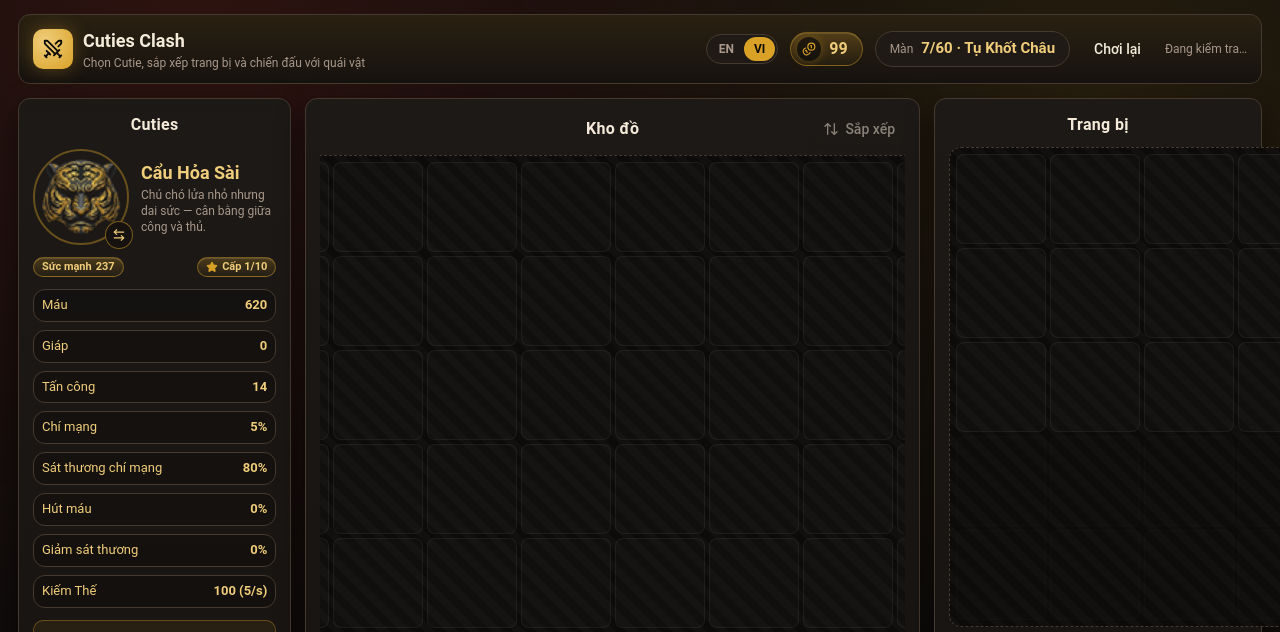
Test case: restarting asks for confirmation › cancels with Esc, and the Esc key does not survive the dialog closing
Click the button "Chơi lại": (1118, 49) [1082, 33, 1153, 65]
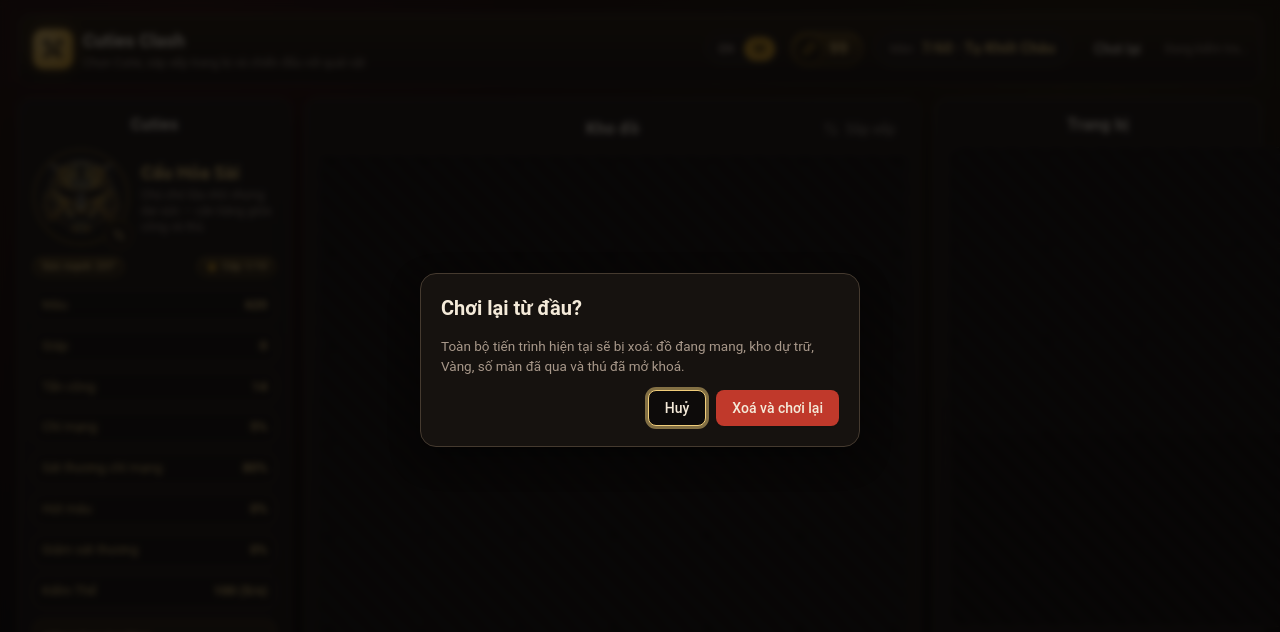
Press Escape
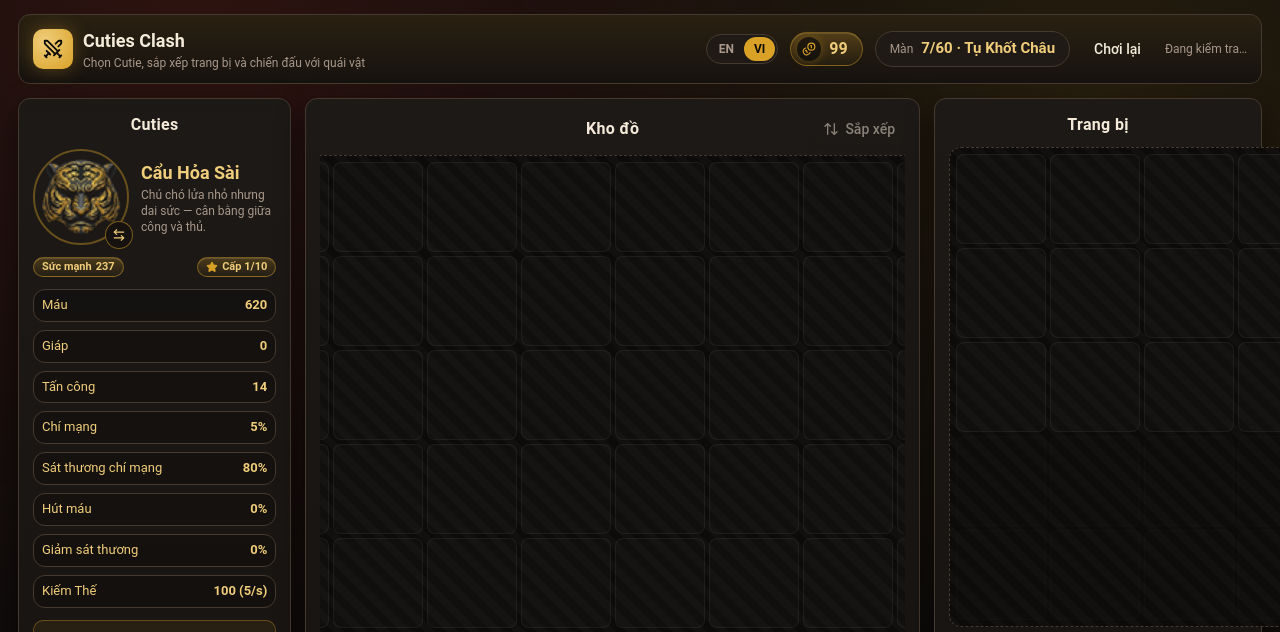
Expected: the dialog is gone
# Reopening and pressing Esc again must still cancel — proof the listener was removed.
Click the button "Chơi lại": (1118, 49) [1082, 33, 1153, 65]
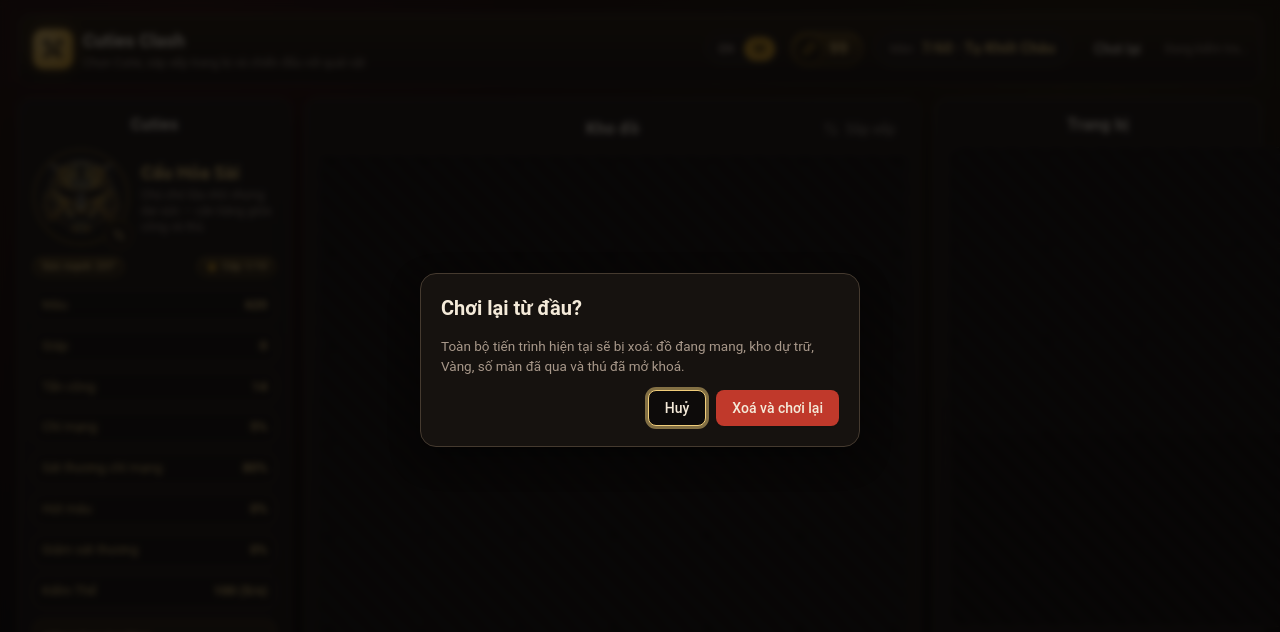
Press Escape
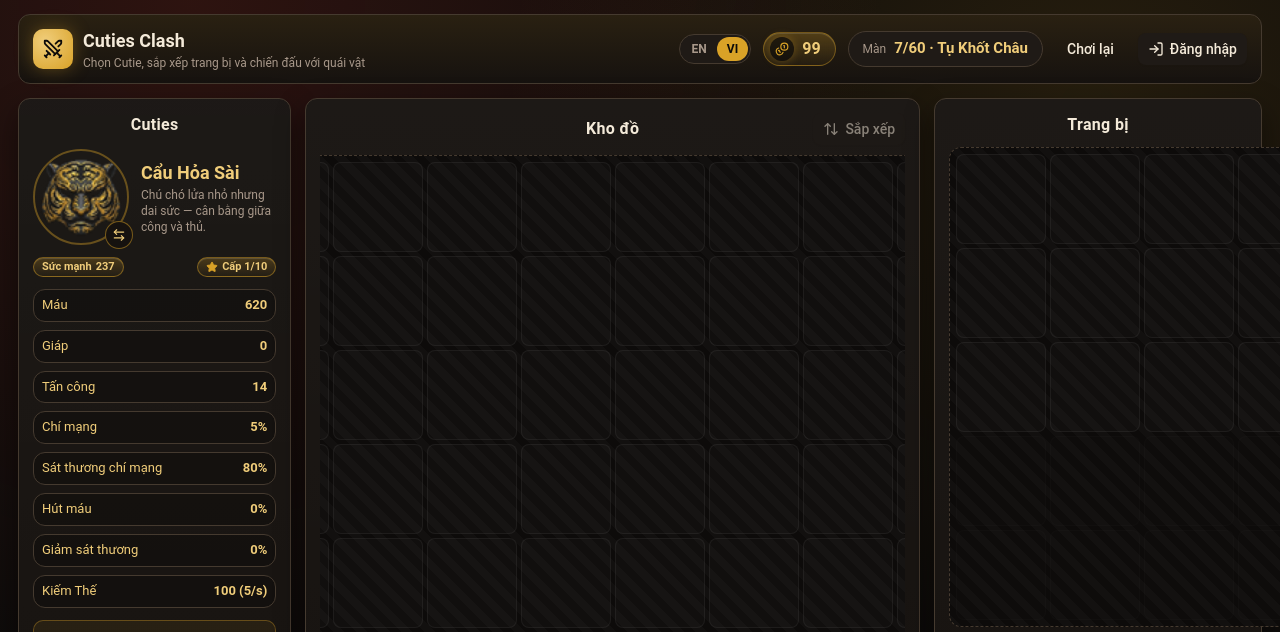
Expected: the dialog is gone
